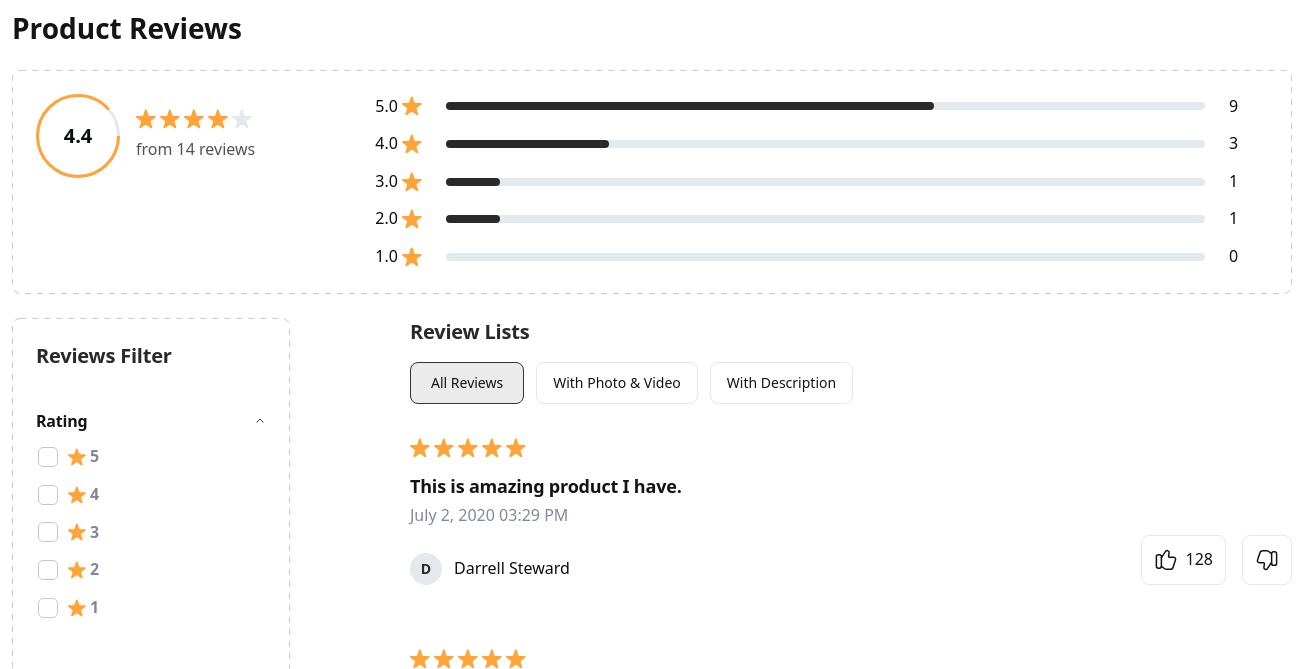
Test case: ProductReviews › filters by tab and shows a message when nothing matches
Click the button "With Photo & Video". click: (617, 383)
box: [536,362,698,404]
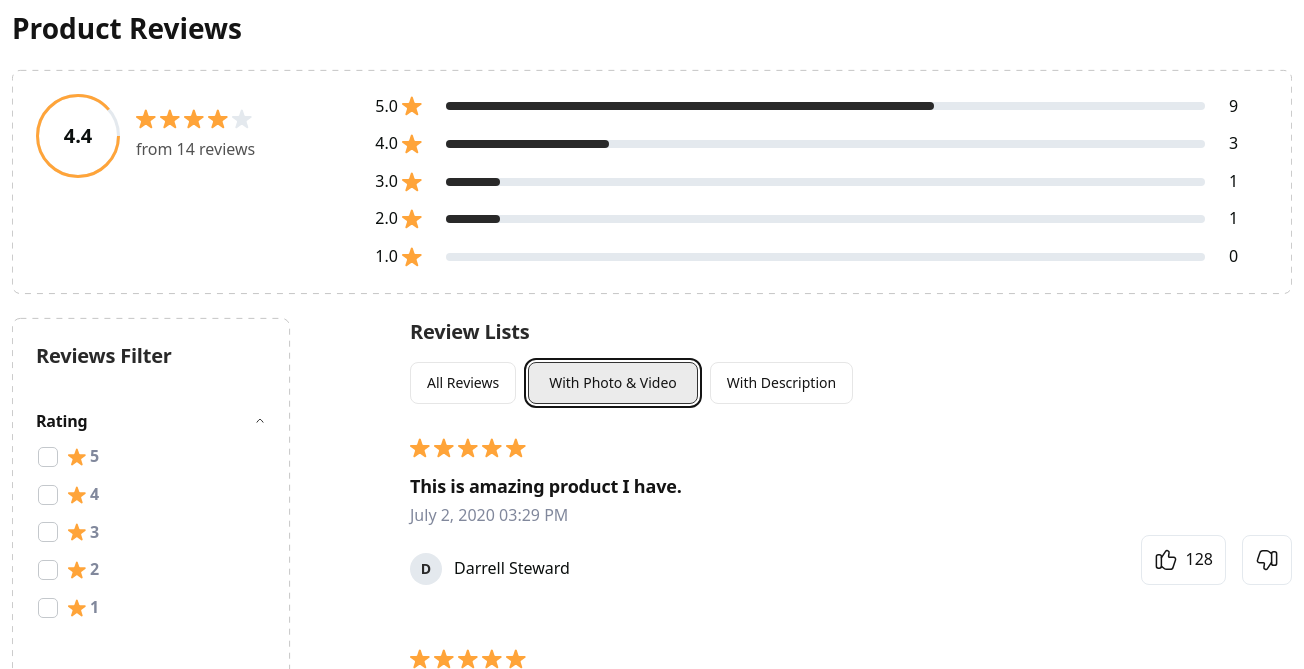
Expected: the button "With Photo & Video" is pressed, [528,362,698,404]
// No example review has a photo and only 1 star
Click the checkbox named "1 stars". click: (48, 608)
box: [38,598,58,618]
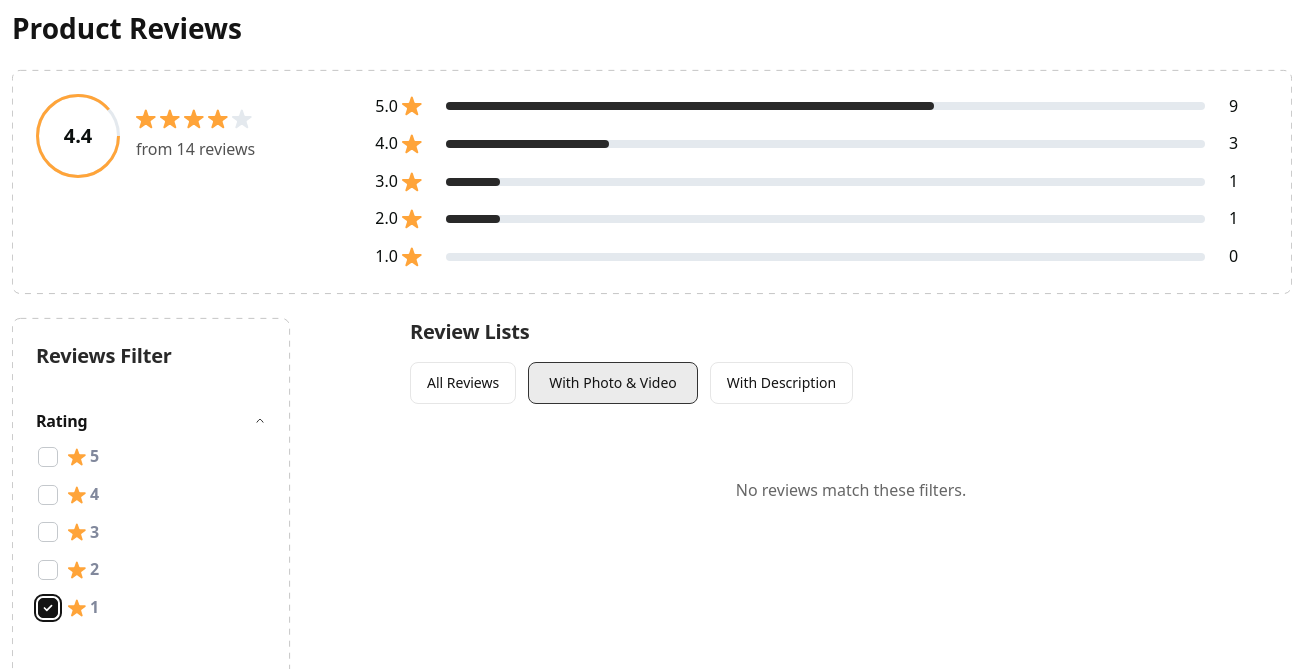
Expected: the text "No reviews match these filters." is shown, [736,479,966,501]
